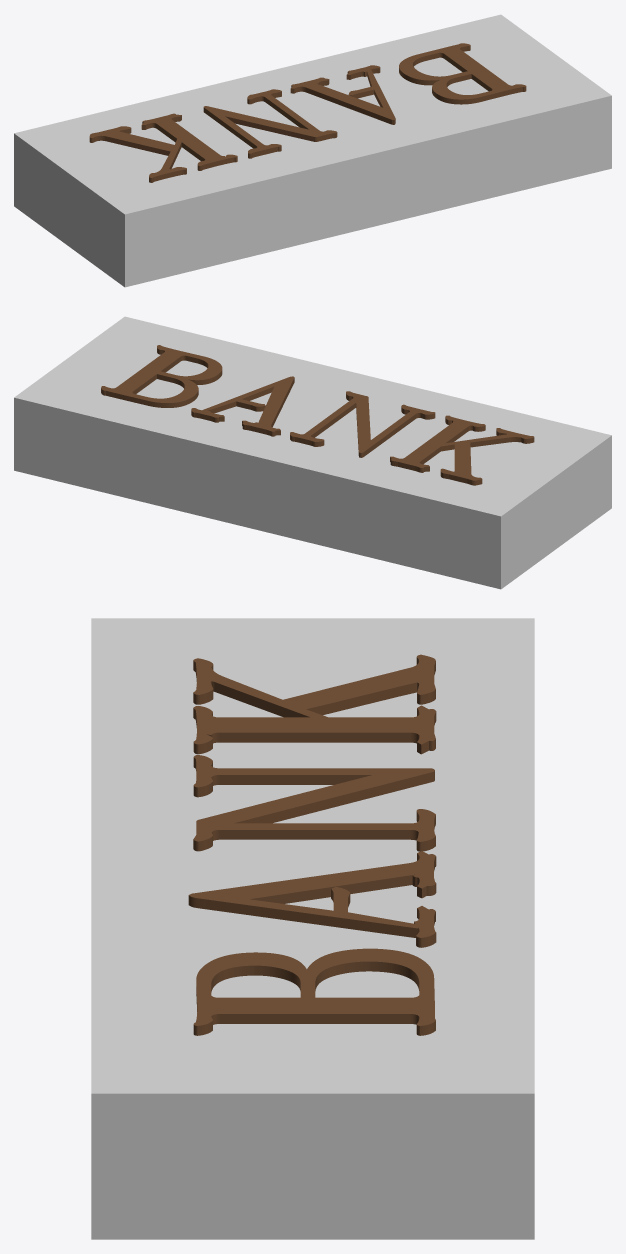
The model's file is BANK.obj.
3 views of the same model, one above another, from view 1: azimuth 30°, elevation 25°; view 2: azimuth 150°, elevation 25°; view 3: azimuth 270°, elevation 25° (orthographic). The views are drawn at different scales.
Visible parts, largest first — view 1: object_5, object_1, object_4, object_2, object_3; view 2: object_5, object_4, object_1, object_2, object_3; view 3: object_5, object_1, object_4, object_2, object_3.
Part boxes in pixels (left/top/right/bottom): object_5: left=14, top=14, right=611, bottom=287; object_1: left=89, top=113, right=237, bottom=182; object_4: left=399, top=43, right=526, bottom=104; object_2: left=203, top=89, right=337, bottom=158; object_3: left=290, top=65, right=395, bottom=124; object_5: left=14, top=316, right=611, bottom=589; object_4: left=101, top=345, right=222, bottom=407; object_1: left=390, top=415, right=534, bottom=485; object_2: left=290, top=391, right=435, bottom=457; object_3: left=191, top=376, right=294, bottom=436; object_5: left=91, top=618, right=534, bottom=1239; object_1: left=193, top=654, right=436, bottom=754; object_4: left=193, top=948, right=435, bottom=1035; object_2: left=193, top=755, right=435, bottom=851; object_3: left=188, top=851, right=436, bottom=947.
Size of the model in its own units: 1089 by 167 by 429.
